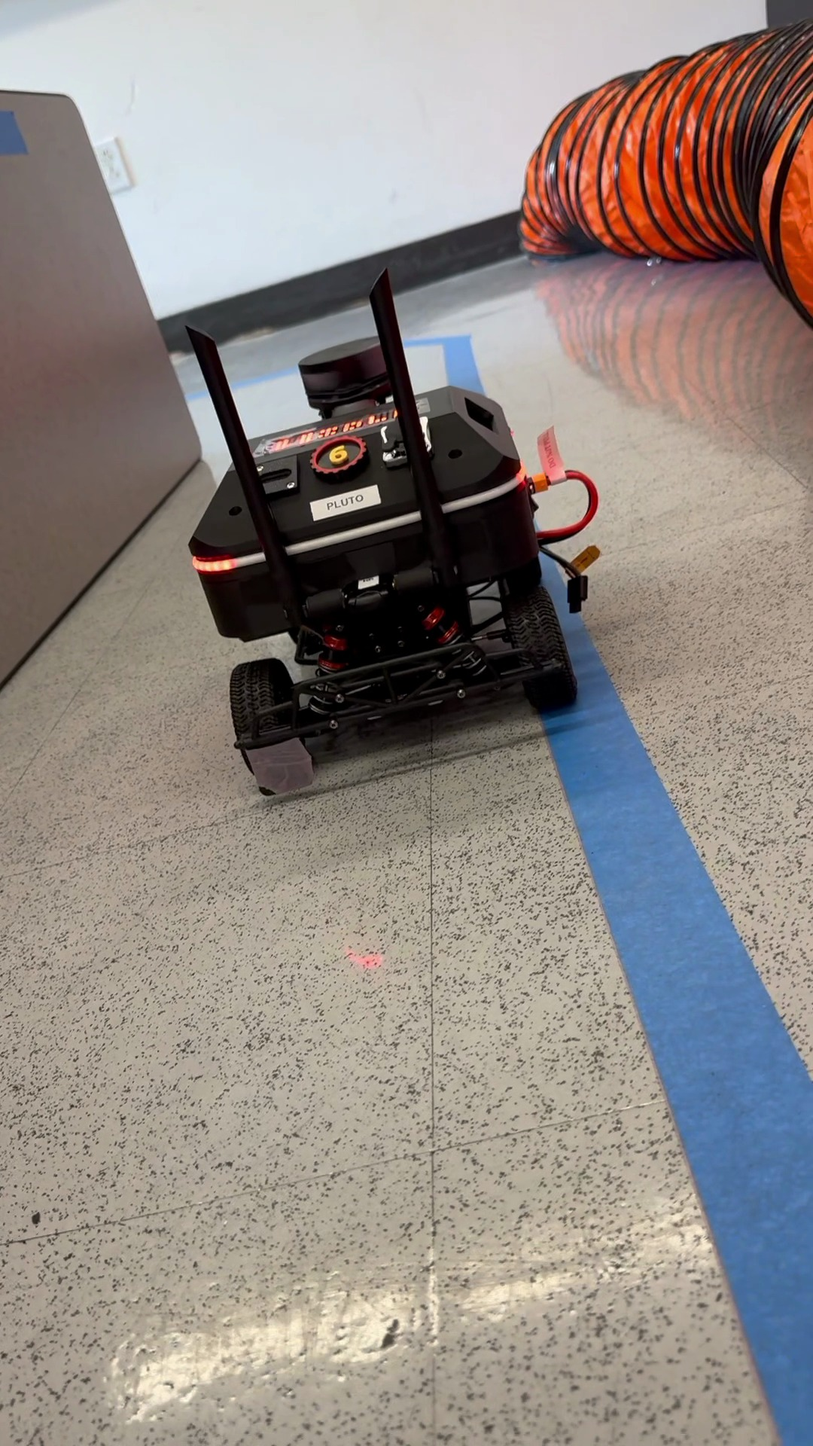racecar: (181, 261, 599, 800)
